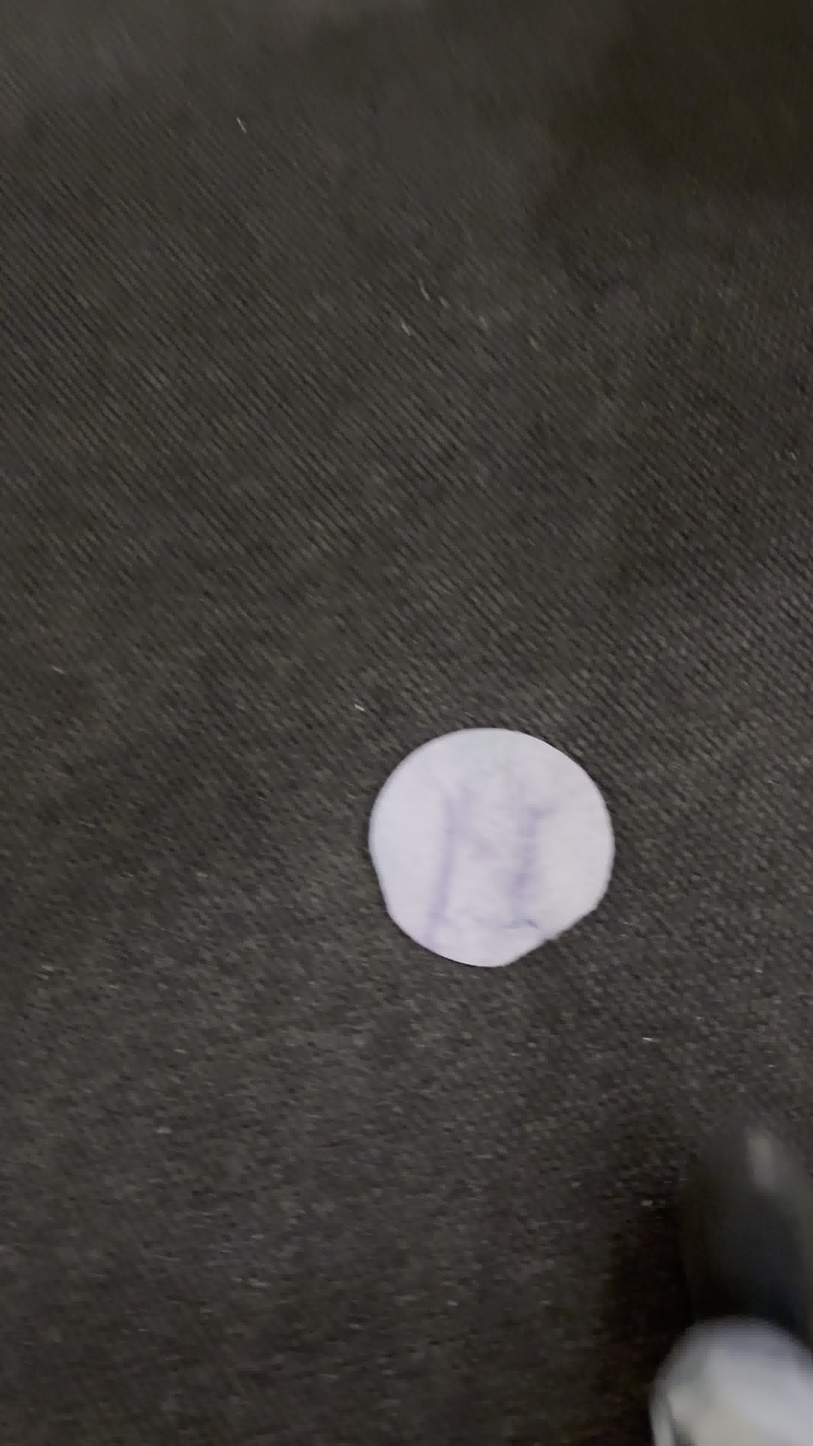Target: (363, 724, 618, 973)
